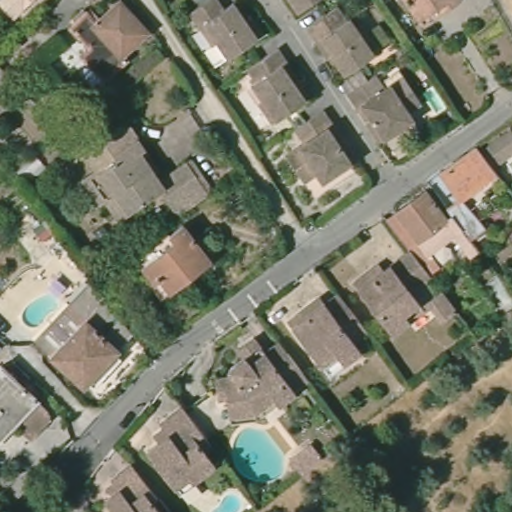pool: (226, 419, 290, 486), (19, 289, 62, 331), (212, 486, 256, 508)
